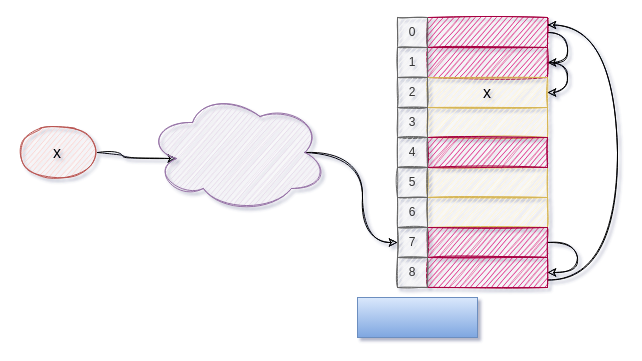
Some shapes in this 642 by 361 pixel diagram are drawn without their labels. Each missing label, with the box of its shape:
hash(key): (146, 92, 328, 212)
线性探查法: (356, 296, 478, 338)
